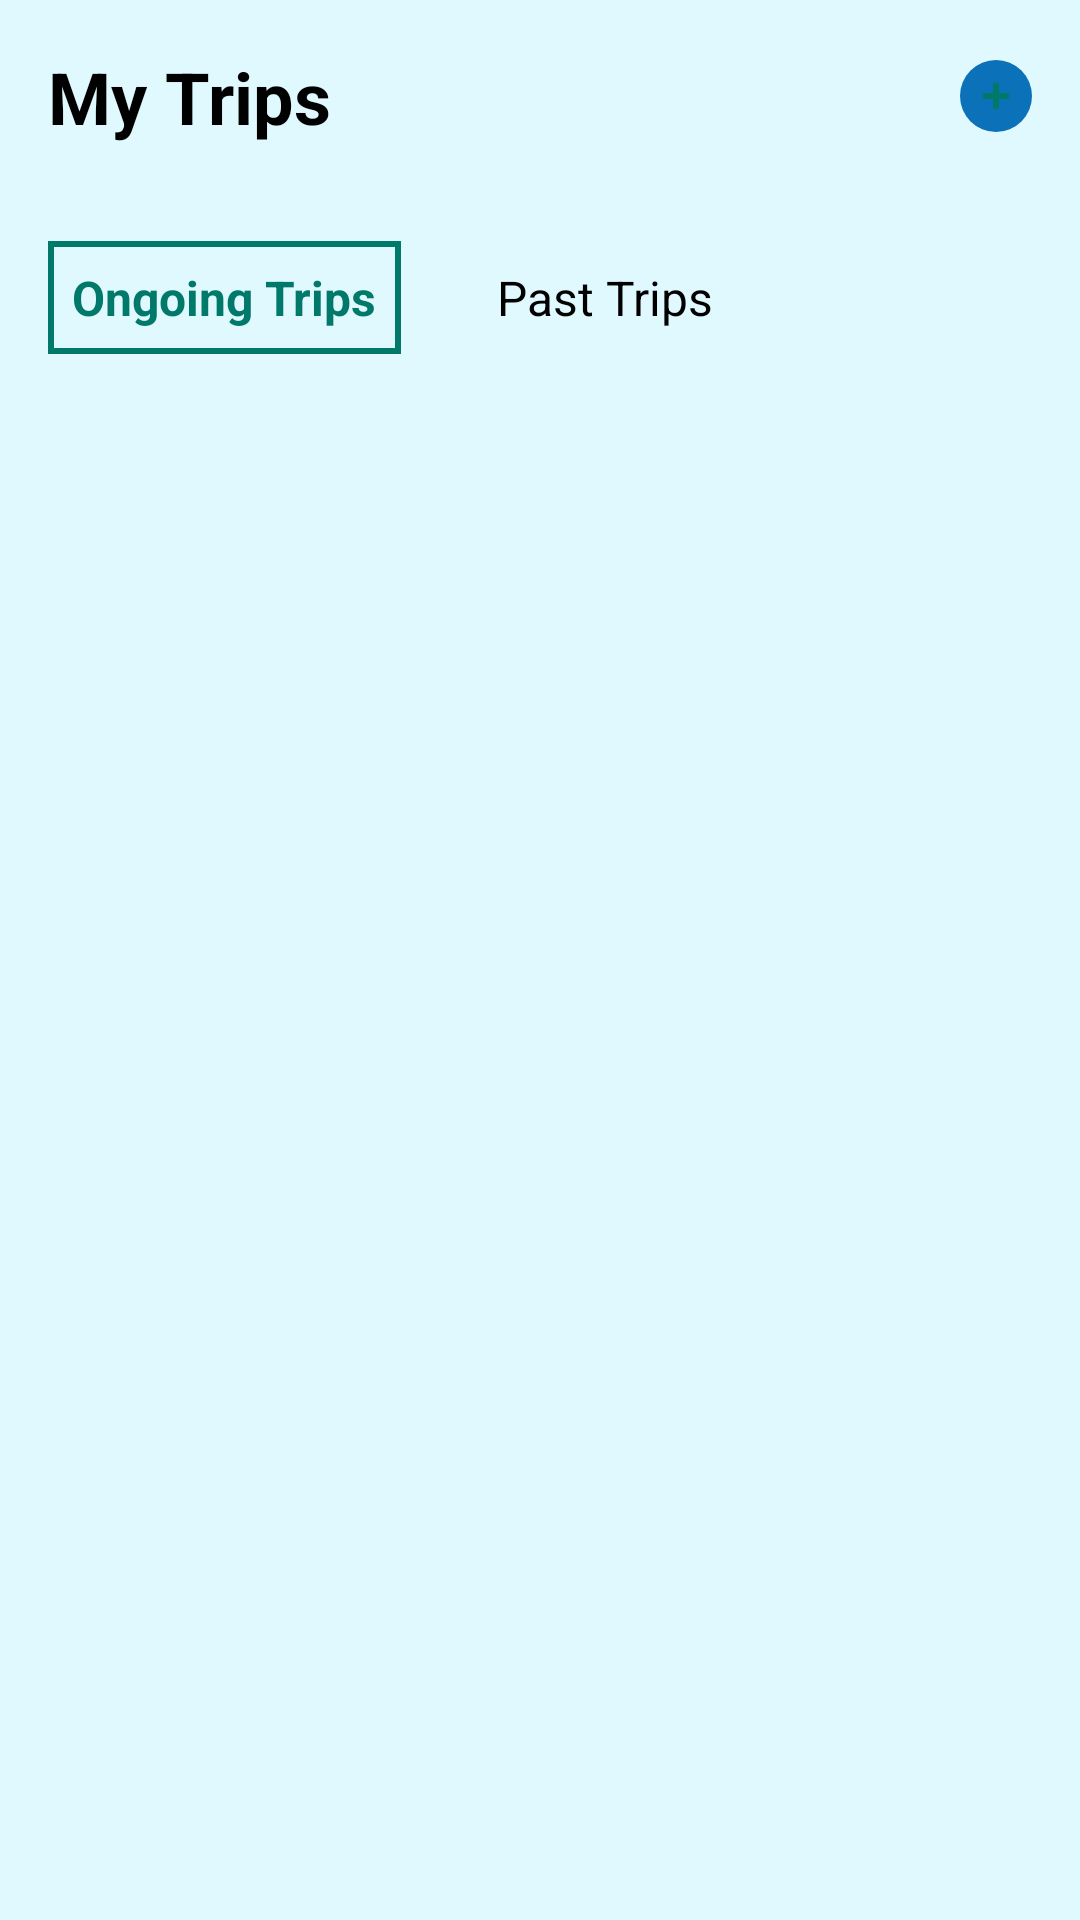

Screen size 1080x1920. Icon name, then its center in pixels as [x,y]:
add: [996,96]
